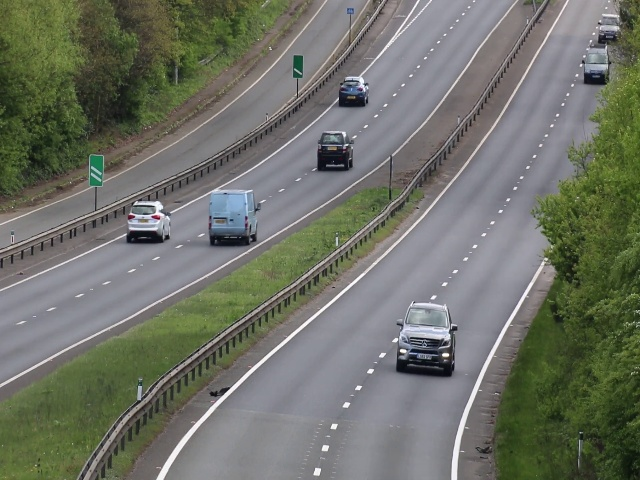car: (396, 300, 457, 381), (206, 188, 262, 244), (125, 198, 174, 244), (315, 130, 353, 171), (338, 72, 372, 108), (584, 45, 610, 84), (598, 12, 621, 43)
